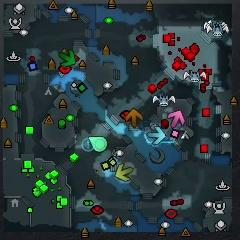p2: (88, 136, 107, 152)
x1: (168, 110, 184, 128)
x2: (116, 163, 132, 182)
x3: (148, 126, 166, 144)
x4: (59, 50, 75, 67)
x5: (126, 108, 142, 127)
